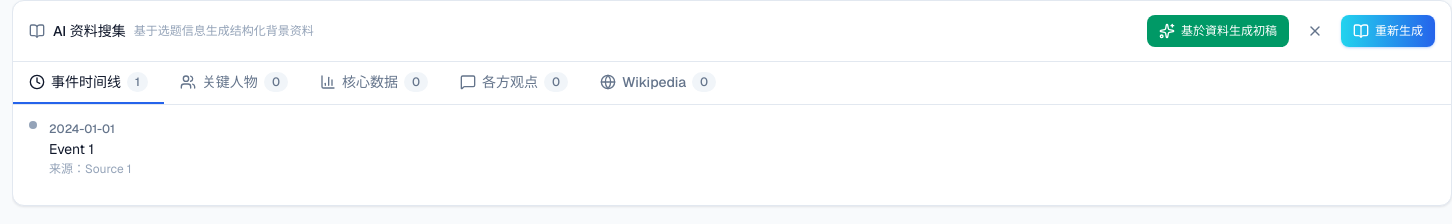
Scenario: ResearchKitPanel › should render Wikipedia tab even when no wikipedia data (always visible)
Click the tab to see the message
Click the button "Wikipedia 0": {"x": 658, "y": 83} [584,62,732,104]
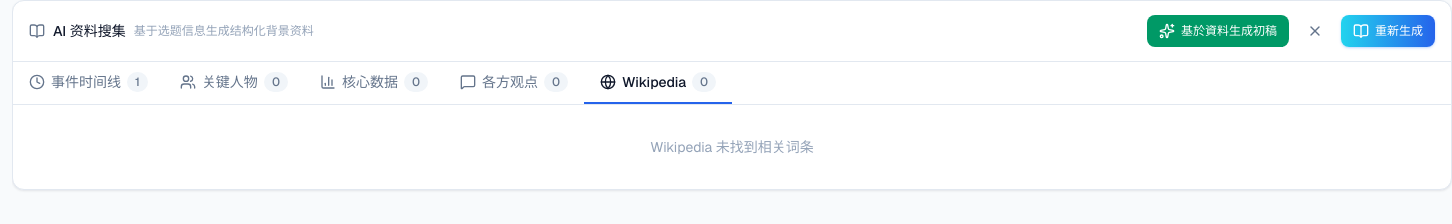
Expected: the text "Wikipedia 未找到相关词条" is shown, [650,138,814,156]
